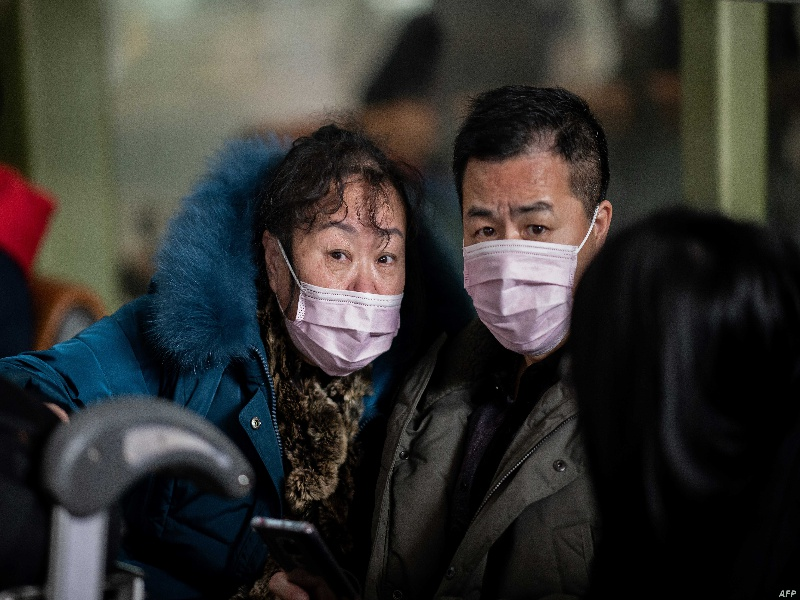ManaoArotava: (268, 166, 425, 383), (455, 132, 592, 371)
